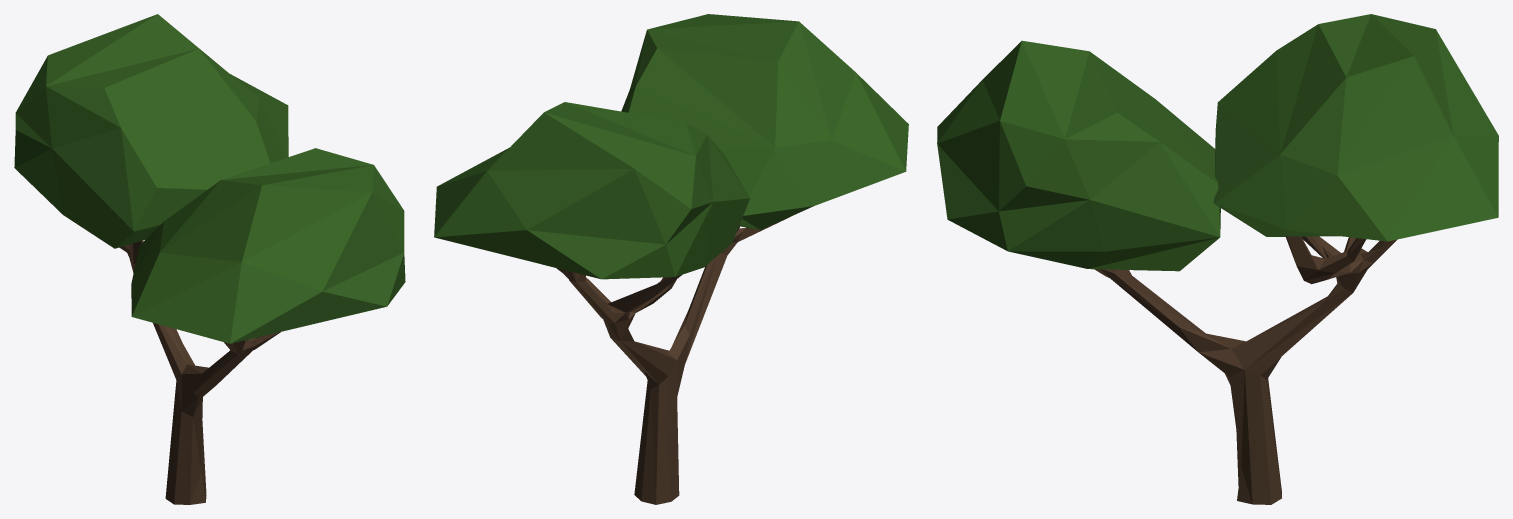
File: tree_d.glb
3 views of the same model, side by side, from view 1: azimuth 30°, elevation 25°; view 2: azimuth 150°, elevation 25°; view 3: azimuth 270°, elevation 25° (orthographic). The views are drawn at different scales.
Visible parts, largest first — view 1: tree_d; view 2: tree_d; view 3: tree_d.
Boxes of the visible parts, x1,y1,x2,y2 form: tree_d: (14,14,405,504); tree_d: (434,14,908,504); tree_d: (937,14,1498,504).
Bounding box in the file's own units: 1.91 × 2.48 × 2.73.
